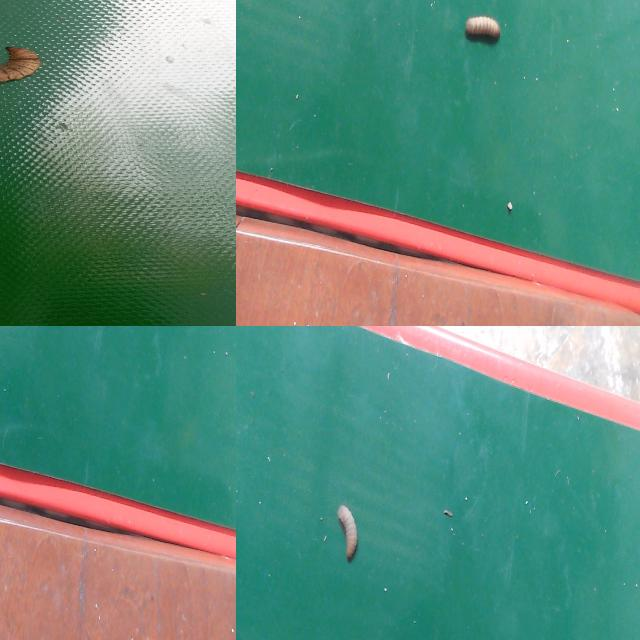Maggot: (462, 11, 507, 49), (0, 45, 41, 86), (336, 505, 360, 563)
